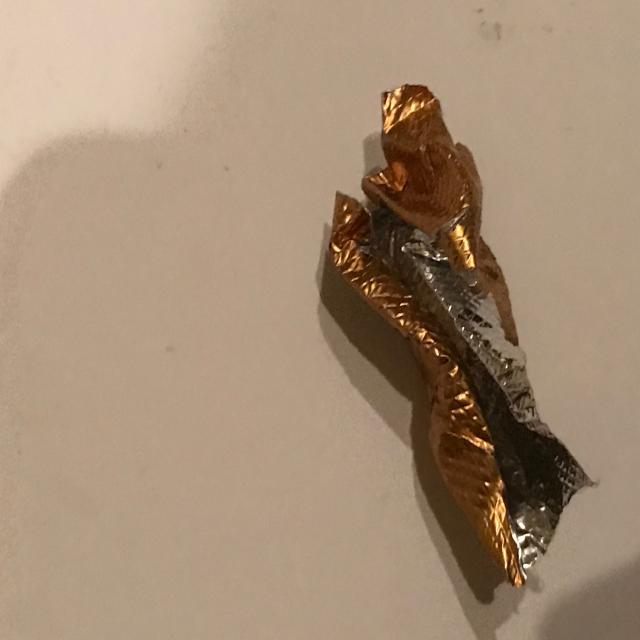metal: (299, 65, 608, 618)
